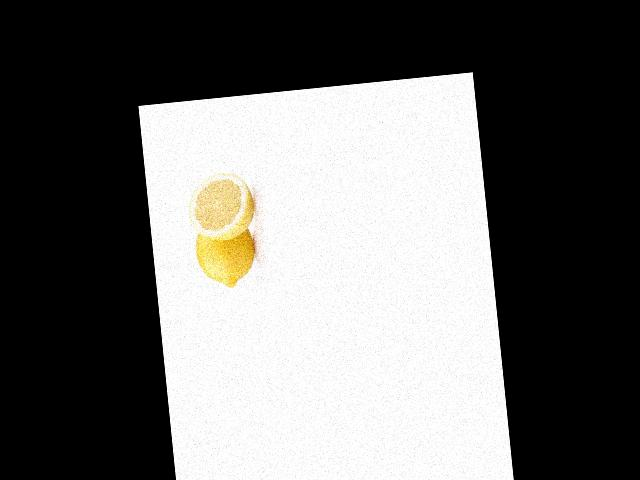lemon: (190, 216, 264, 294)
